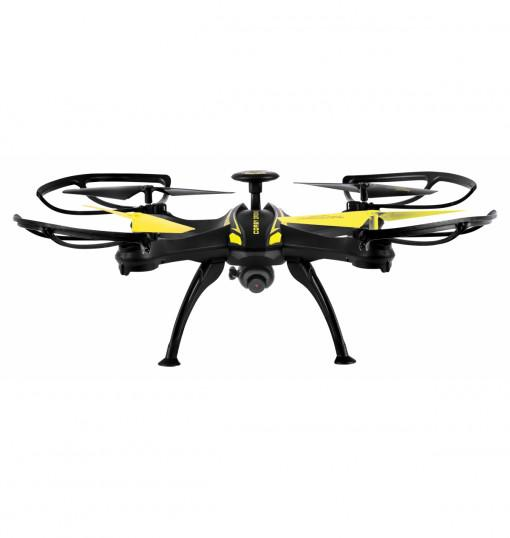drone: (20, 158, 505, 313)
